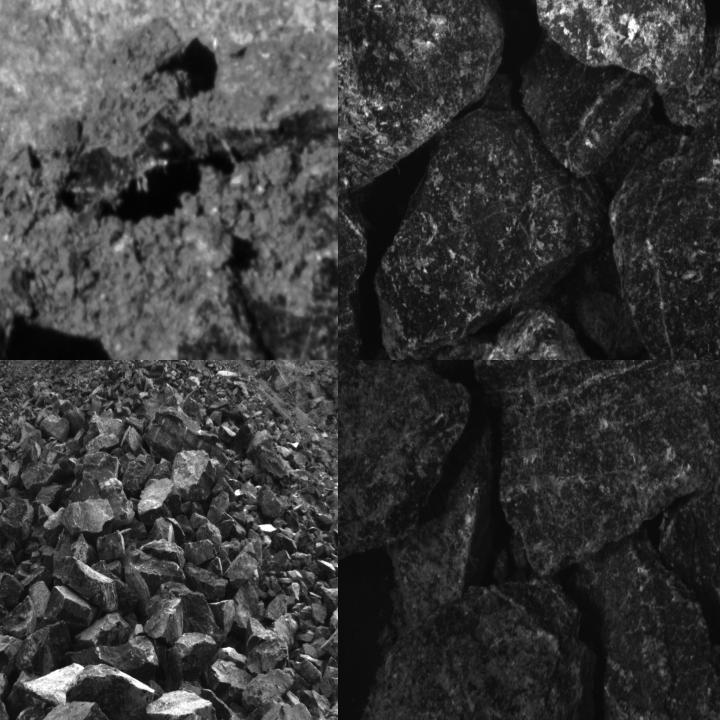stone: (374, 74, 607, 359), (0, 0, 337, 166), (474, 360, 719, 578), (356, 577, 596, 719), (338, 0, 505, 185), (610, 91, 719, 359), (338, 360, 472, 578), (569, 527, 719, 719), (412, 0, 708, 96), (519, 27, 679, 183), (387, 417, 494, 633), (192, 18, 337, 165), (657, 380, 719, 672), (437, 306, 686, 359), (661, 11, 719, 128), (69, 662, 156, 719), (67, 636, 159, 680), (145, 408, 217, 461), (54, 559, 120, 611), (13, 620, 72, 678), (125, 546, 182, 606), (166, 632, 217, 690), (42, 582, 100, 632), (138, 687, 224, 719), (245, 614, 288, 674), (173, 448, 215, 503), (144, 587, 183, 646), (245, 430, 289, 480), (243, 666, 298, 706), (60, 498, 114, 537), (75, 612, 132, 648), (223, 538, 263, 588), (206, 661, 253, 703), (138, 477, 180, 524), (25, 701, 123, 719), (184, 561, 228, 601), (0, 498, 35, 548), (233, 570, 261, 631), (20, 460, 65, 495), (1, 596, 36, 638), (121, 454, 155, 496), (82, 450, 121, 485), (258, 484, 292, 520), (271, 612, 298, 650), (0, 630, 21, 678), (181, 540, 217, 566), (40, 414, 70, 445), (96, 531, 126, 560), (0, 572, 23, 607), (207, 490, 230, 524), (320, 626, 337, 670), (266, 595, 293, 622), (297, 659, 324, 685), (0, 605, 10, 631)
